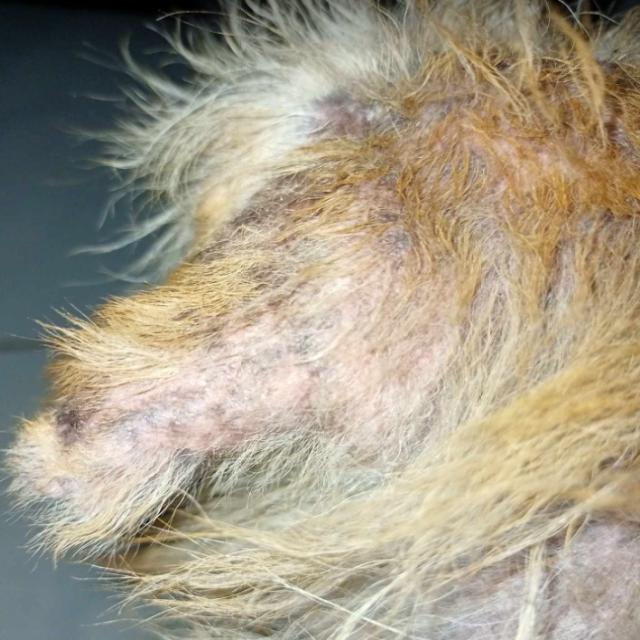demodicosis: (46, 335, 381, 480)
